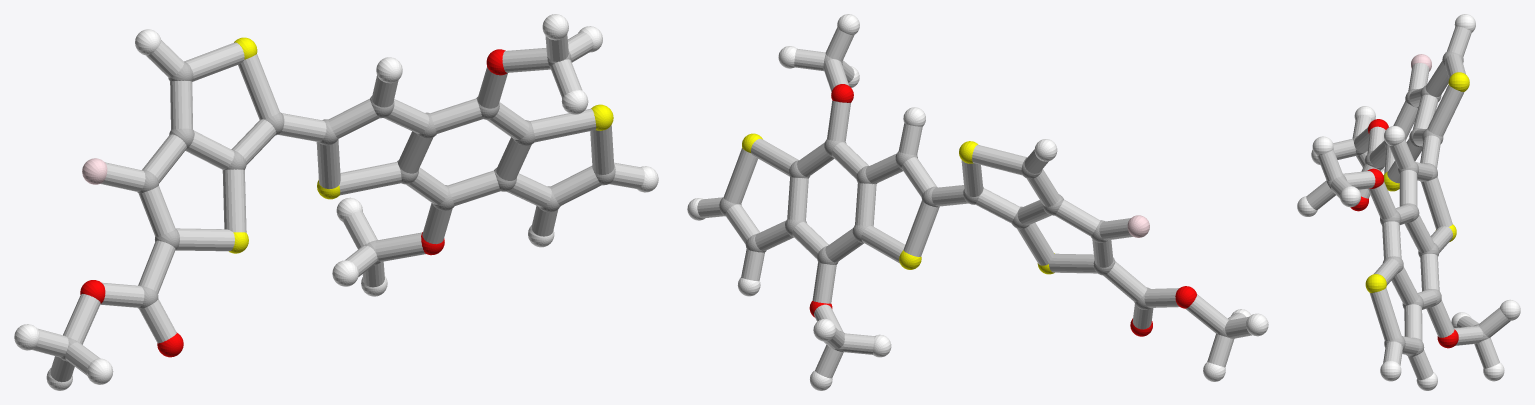
The model's file is color.glb.
The picture shows the model from 3 angles, left to right: view 1: azimuth 30°, elevation 25°; view 2: azimuth 150°, elevation 25°; view 3: azimuth 270°, elevation 25°; orthographic projection. The views are drawn at different scales.
Visible parts, largest first — view 1: grp15205, grp8689, grp1, grp13395, grp7241, grp14843; view 2: grp15205, grp8689, grp1, grp13395, grp7241; view 3: grp15205, grp8689, grp1, grp7241, grp13395.
Part boxes in pixels (bbox=[...]): grp15205: bbox=[32, 32, 644, 382]; grp8689: bbox=[14, 14, 658, 390]; grp1: bbox=[59, 51, 615, 361]; grp13395: bbox=[80, 49, 506, 357]; grp7241: bbox=[229, 37, 613, 253]; grp14843: bbox=[82, 158, 107, 184]; grp15205: bbox=[697, 27, 1251, 378]; grp8689: bbox=[687, 14, 1268, 390]; grp1: bbox=[719, 54, 1234, 351]; grp13395: bbox=[809, 84, 1196, 336]; grp7241: bbox=[742, 133, 1054, 274]; grp15205: bbox=[1306, 26, 1510, 380]; grp8689: bbox=[1297, 14, 1520, 390]; grp1: bbox=[1326, 51, 1489, 356]; grp7241: bbox=[1365, 72, 1469, 292]; grp13395: bbox=[1350, 119, 1458, 348].
Size of the model in its own units: 17.13 by 8.47 by 6.31.
